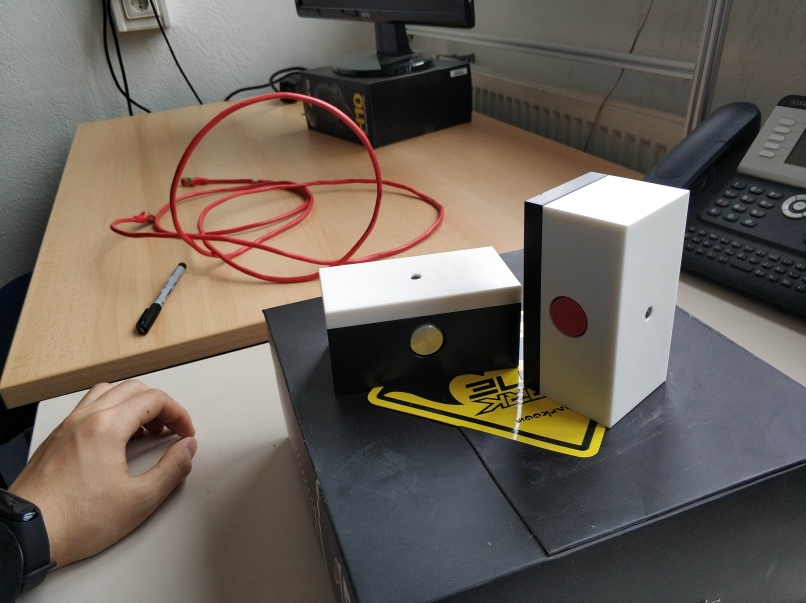black+white+red: (522, 168, 698, 429)
white+black+silver: (317, 244, 523, 399)
